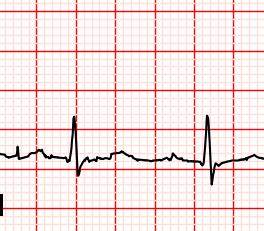ST Depression: (61, 155, 92, 180), (199, 158, 221, 190)
